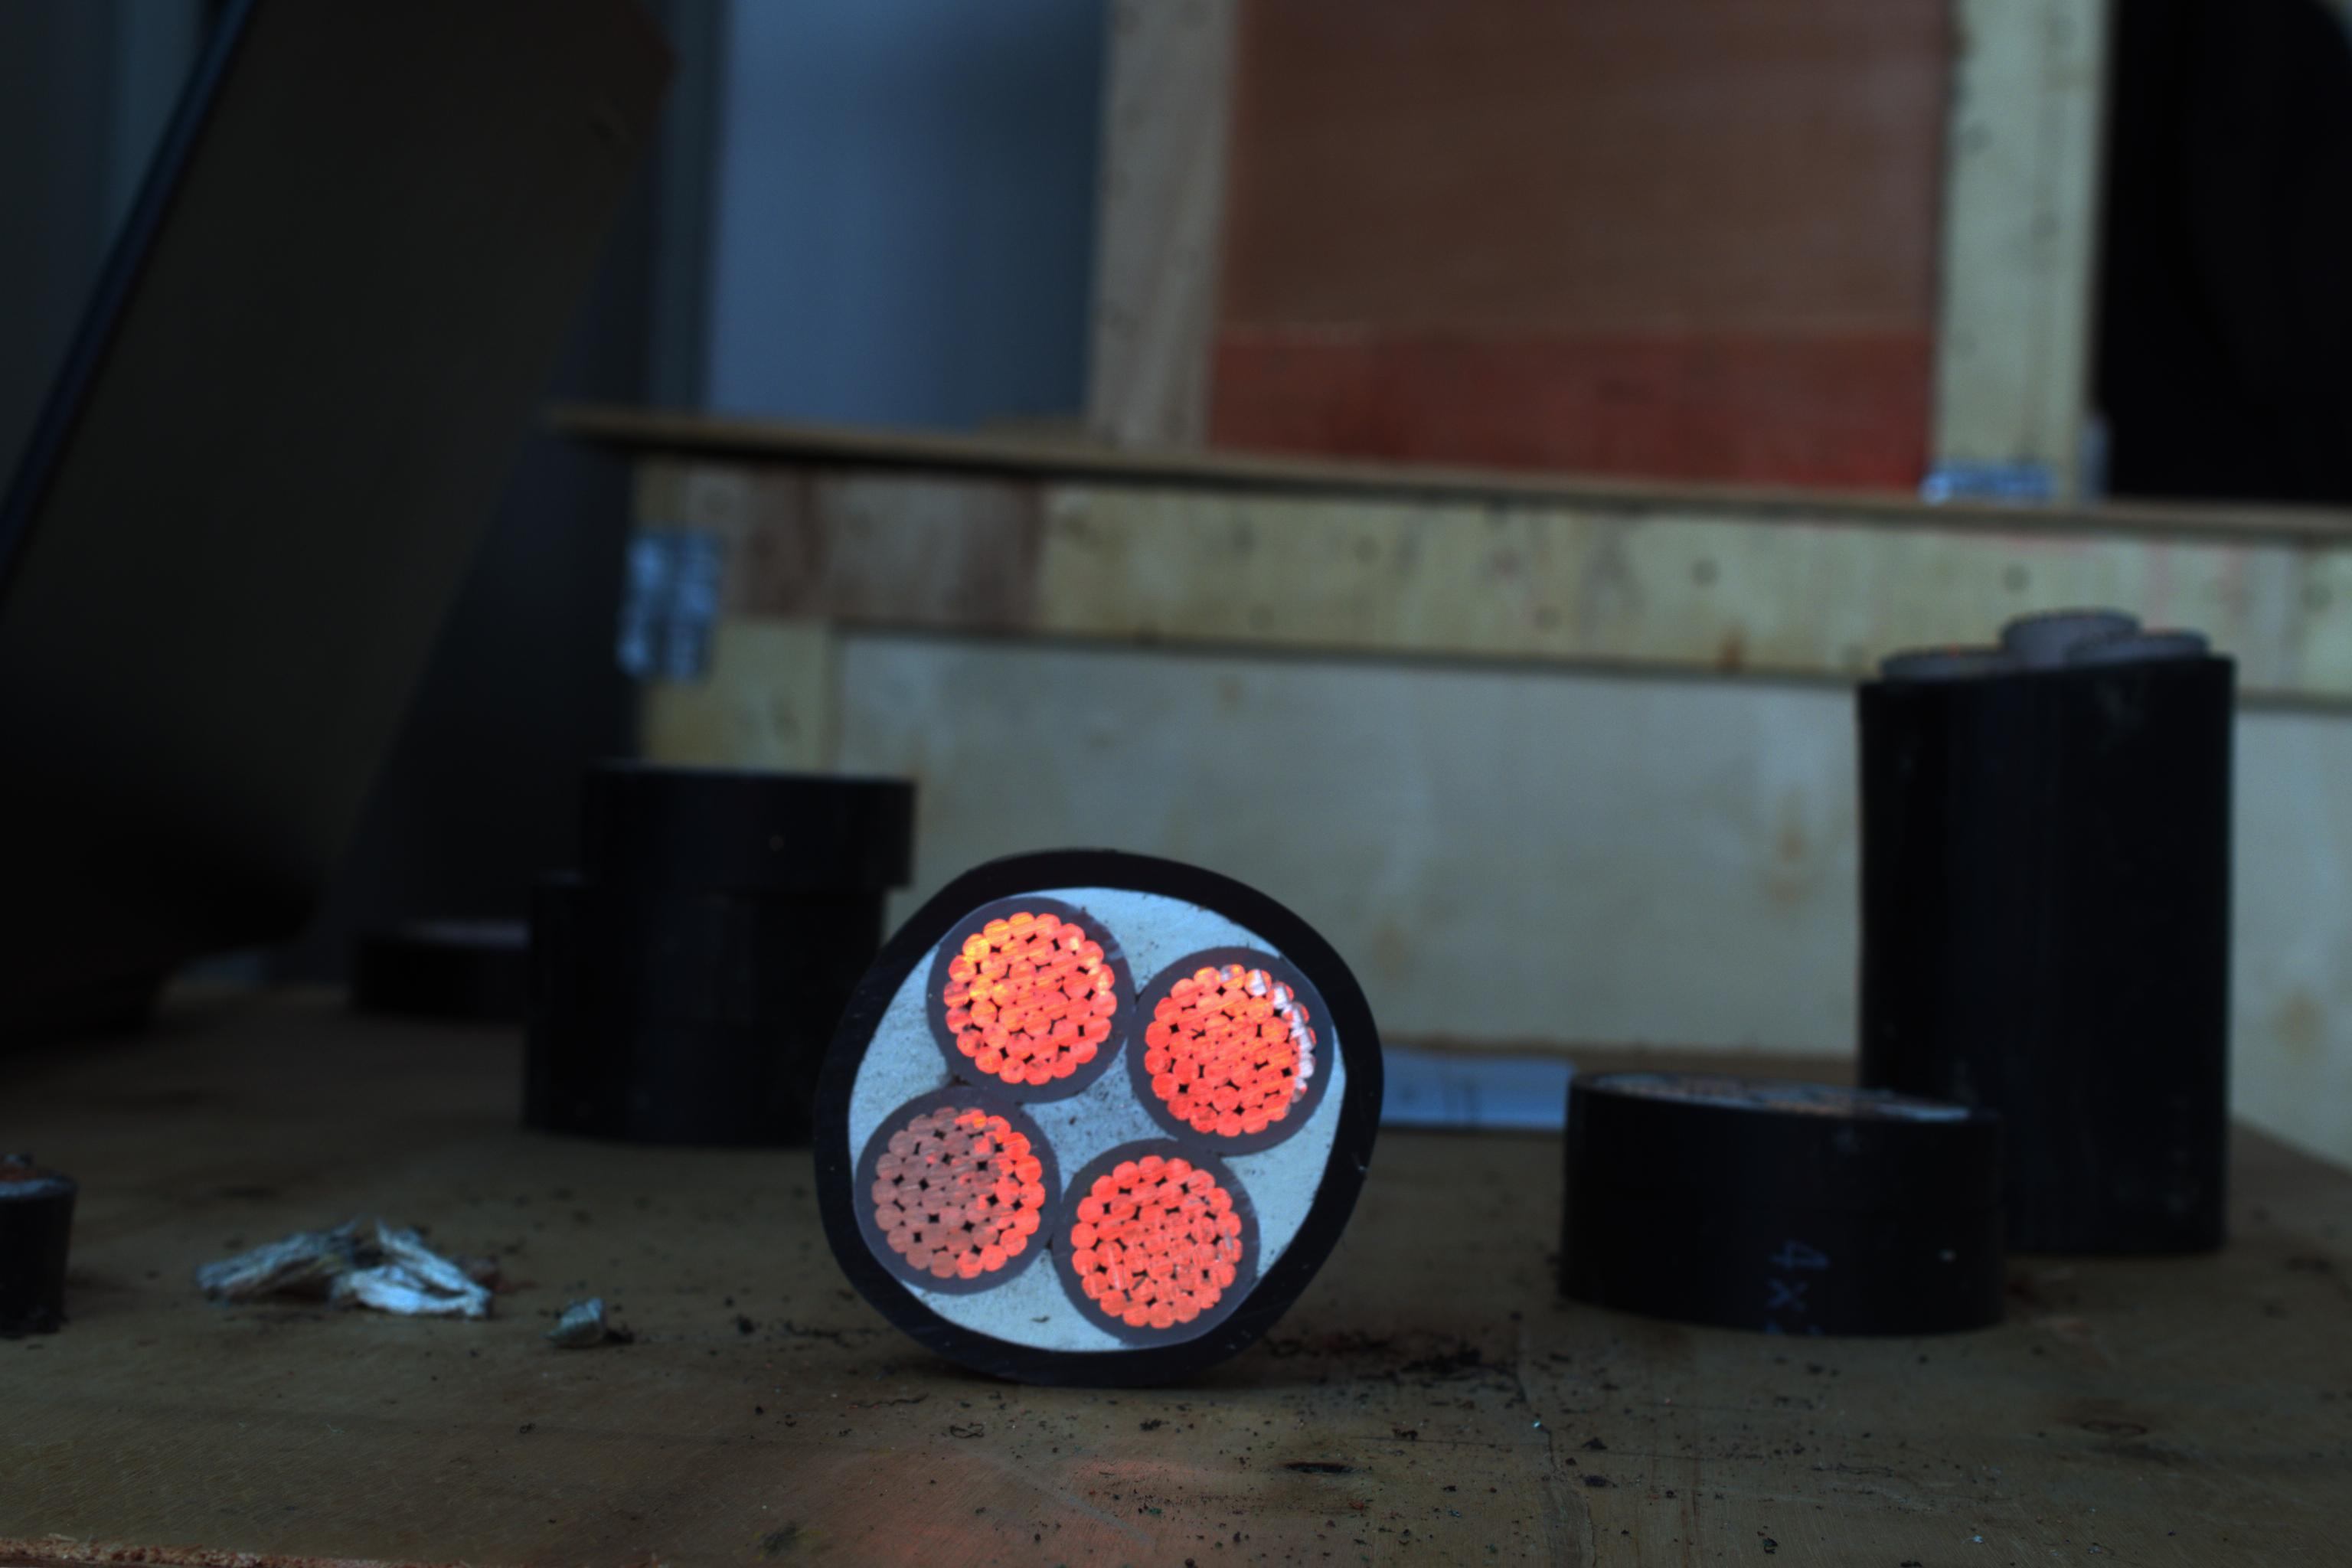YJV_0.6_1kV_4x240: (819, 836, 1365, 1361)
